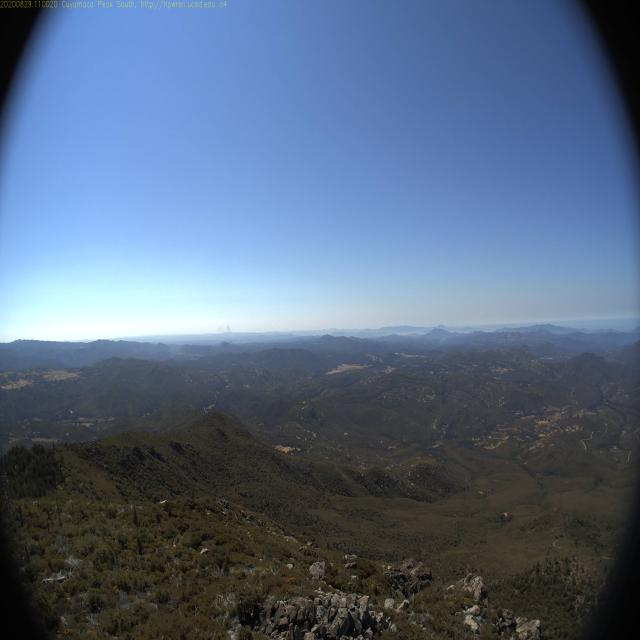smoke: (217, 317, 240, 349)
